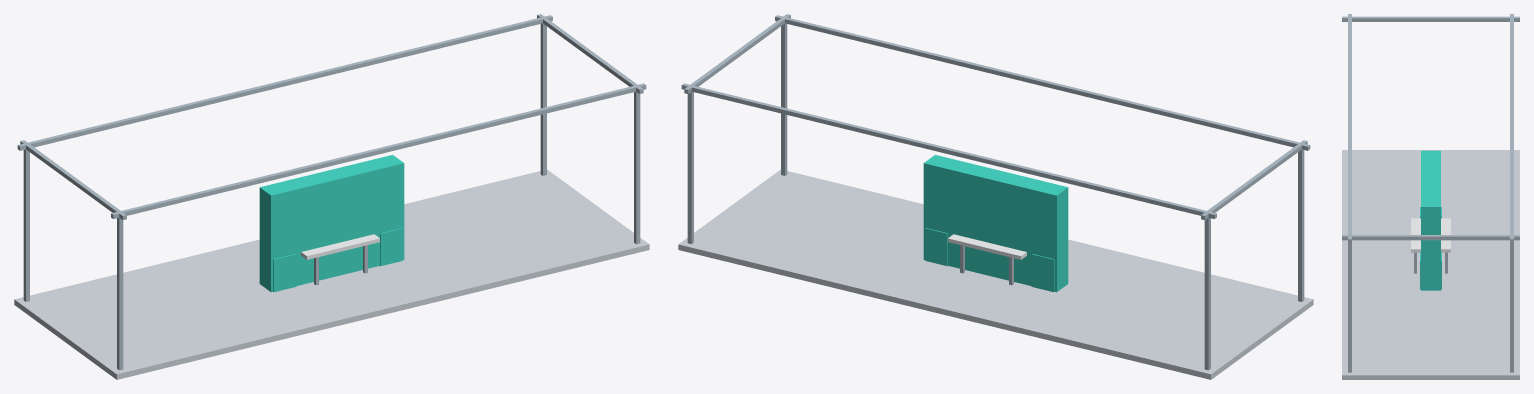
3 renders of one model, left to right at view 1: azimuth 30°, elevation 25°; view 2: azimuth 150°, elevation 25°; view 3: azimuth 270°, elevation 25°, orthographic. The views are drawn at different scales.
Visible parts, largest first — view 1: Exhibition Booth Concept; view 2: Exhibition Booth Concept; view 3: Exhibition Booth Concept.
Boxes of the visible parts, box(x1,y1,x2,y2) form: Exhibition Booth Concept: box(14, 14, 649, 379); Exhibition Booth Concept: box(678, 14, 1313, 379); Exhibition Booth Concept: box(1342, 14, 1519, 379).
Bounding box in the file's own units: 12 × 3.49 × 4.
